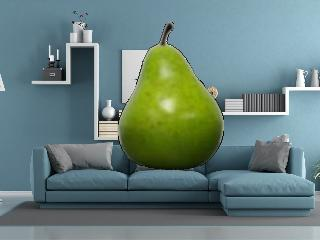pear: (116, 21, 228, 172)
